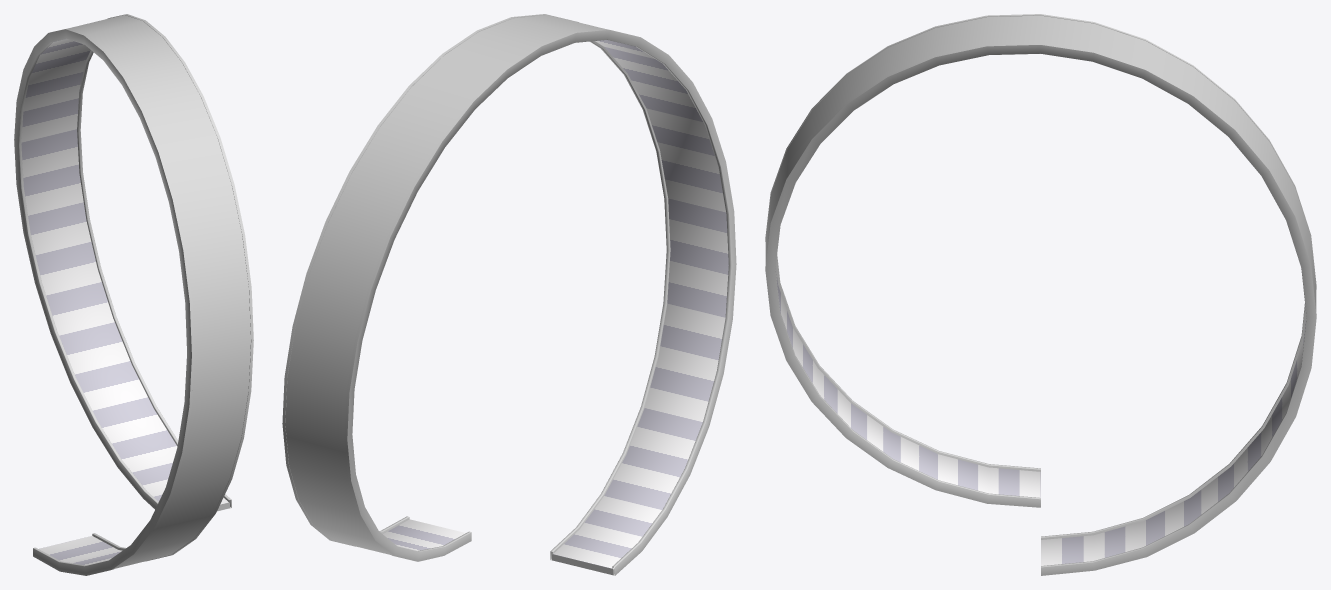
File: Platform_Spiral_Big.fbx
The picture shows the model from 3 angles, left to right: view 1: azimuth 30°, elevation 25°; view 2: azimuth 150°, elevation 25°; view 3: azimuth 270°, elevation 25°; orthographic projection. The views are drawn at different scales.
Visible parts, largest first — view 1: Platform_Spiral_Big; view 2: Platform_Spiral_Big; view 3: Platform_Spiral_Big.
Part boxes in pixels (x1=…): Platform_Spiral_Big: x1=14, y1=14, x2=253, y2=575; Platform_Spiral_Big: x1=282, y1=14, x2=736, y2=575; Platform_Spiral_Big: x1=765, y1=14, x2=1316, y2=575.
Bounding box in the file's own units: 3083 × 7237 × 7261.
